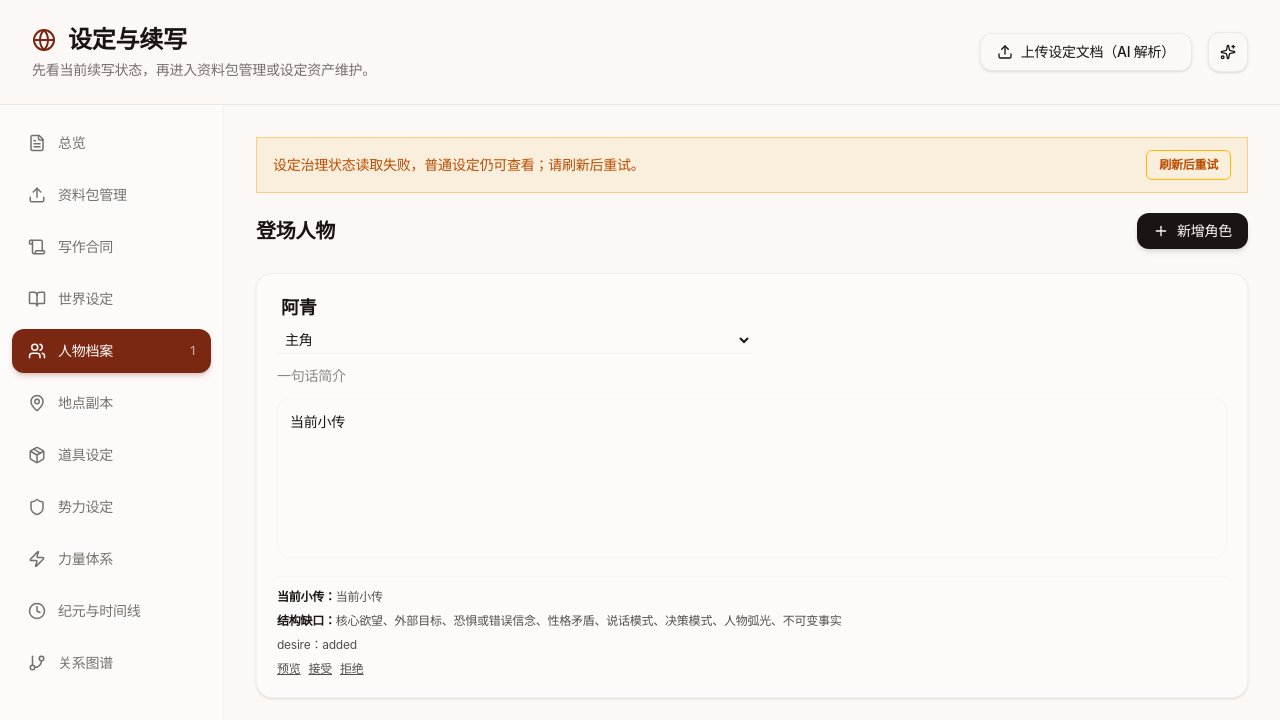
Test case: WorldBibleView character governance › loads pending candidates and accepts them through the real character page
Expected: the text "desire：added" is shown, [277,637,357,652]
Click the button with aria-label "接受角色候选" at (320, 669), box [308,661,332,677]
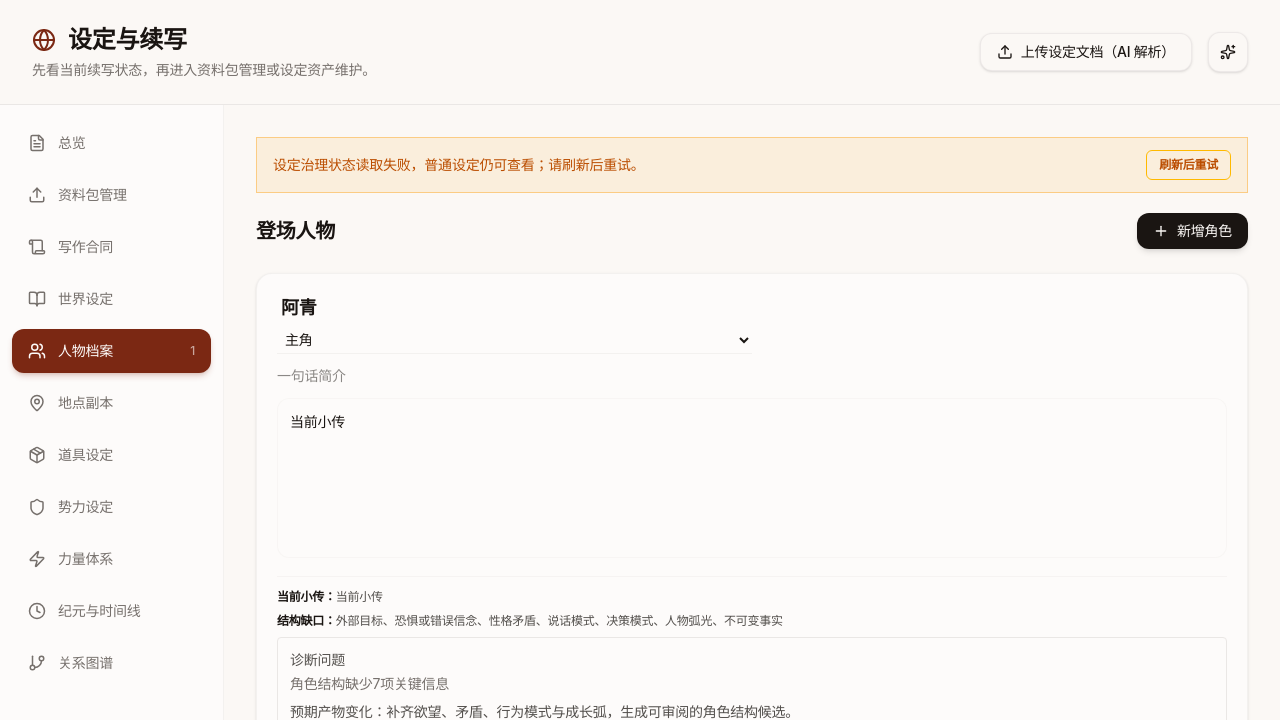
Result: the button "接受角色候选" is gone
